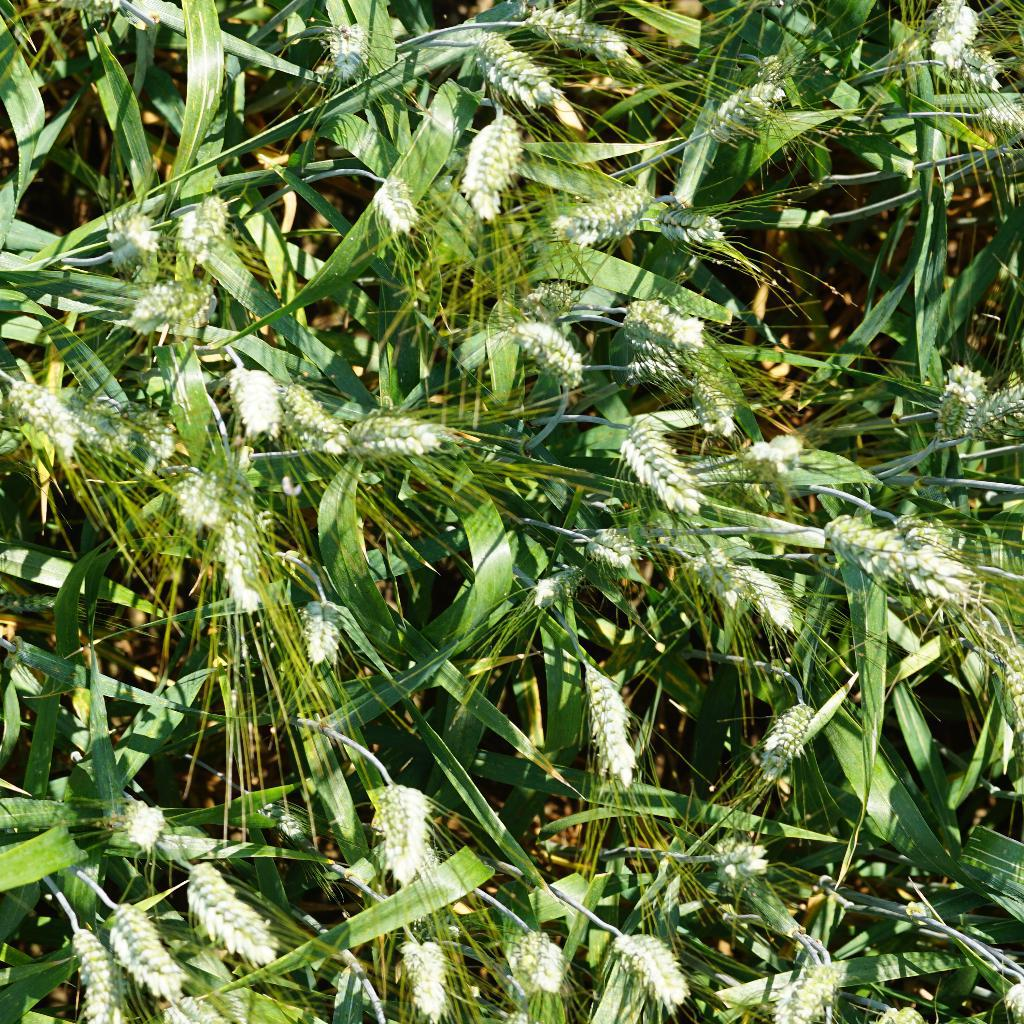0-0: (813, 509, 986, 609), (179, 856, 290, 970), (570, 654, 658, 792), (598, 411, 712, 511), (600, 915, 701, 1019), (509, 0, 650, 74), (358, 765, 445, 882), (103, 893, 190, 1002), (51, 916, 137, 1024), (210, 492, 283, 619), (620, 342, 740, 419), (452, 22, 564, 104), (610, 290, 743, 359), (751, 677, 832, 789), (497, 313, 597, 397), (695, 73, 795, 150), (462, 98, 527, 210), (911, 344, 983, 445), (963, 619, 1024, 737), (550, 186, 668, 247), (6, 372, 83, 463), (382, 926, 453, 1024), (108, 266, 209, 333), (276, 372, 351, 460), (721, 553, 806, 630), (342, 403, 447, 464), (239, 780, 322, 856), (223, 357, 292, 448), (298, 578, 357, 679), (497, 915, 572, 994), (163, 448, 231, 534), (776, 945, 848, 1024), (79, 397, 149, 474), (169, 193, 245, 261), (878, 499, 964, 556), (311, 0, 380, 70), (563, 515, 650, 570), (653, 205, 743, 258), (703, 830, 777, 893), (509, 271, 594, 325), (681, 539, 747, 608), (728, 428, 807, 485), (963, 376, 1024, 449), (92, 208, 157, 271), (519, 559, 578, 624), (930, 0, 983, 71), (115, 788, 168, 858), (158, 988, 261, 1024), (967, 90, 1024, 154), (373, 176, 422, 238)
